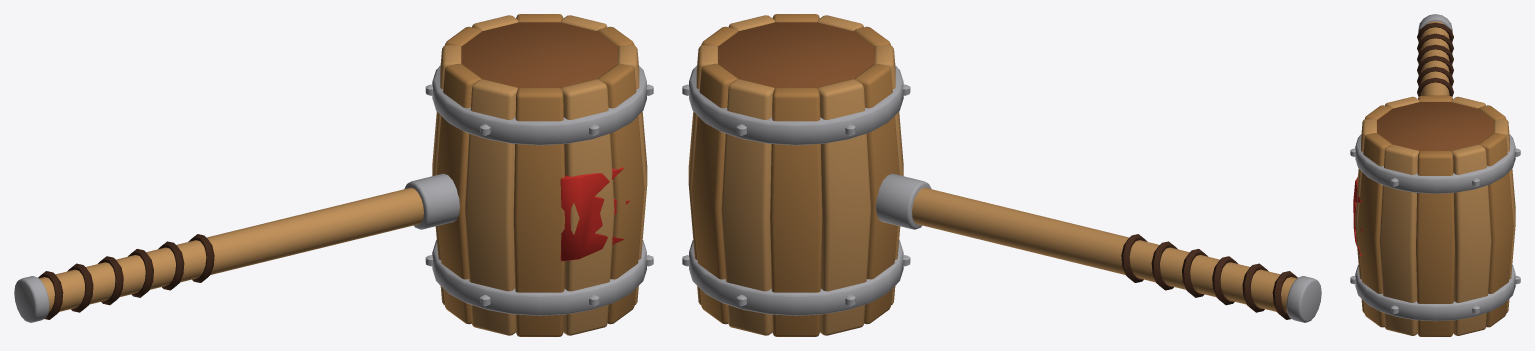
File: hammer.glb
The picture shows the model from 3 angles, left to right: view 1: azimuth 30°, elevation 25°; view 2: azimuth 150°, elevation 25°; view 3: azimuth 270°, elevation 25°; orthographic projection. The views are drawn at different scales.
Visible parts, largest first — view 1: Head, Handle; view 2: Head, Handle; view 3: Head, Handle.
Boxes of the visible parts, left/top/right/bottom form: Head: left=425, top=14, right=653, bottom=336; Handle: left=14, top=173, right=459, bottom=322; Head: left=682, top=14, right=910, bottom=336; Handle: left=876, top=173, right=1321, bottom=322; Head: left=1350, top=95, right=1520, bottom=336; Handle: left=1417, top=14, right=1453, bottom=96.
Bounding box in the file's own units: 1.04 × 0.4 × 0.3398.
